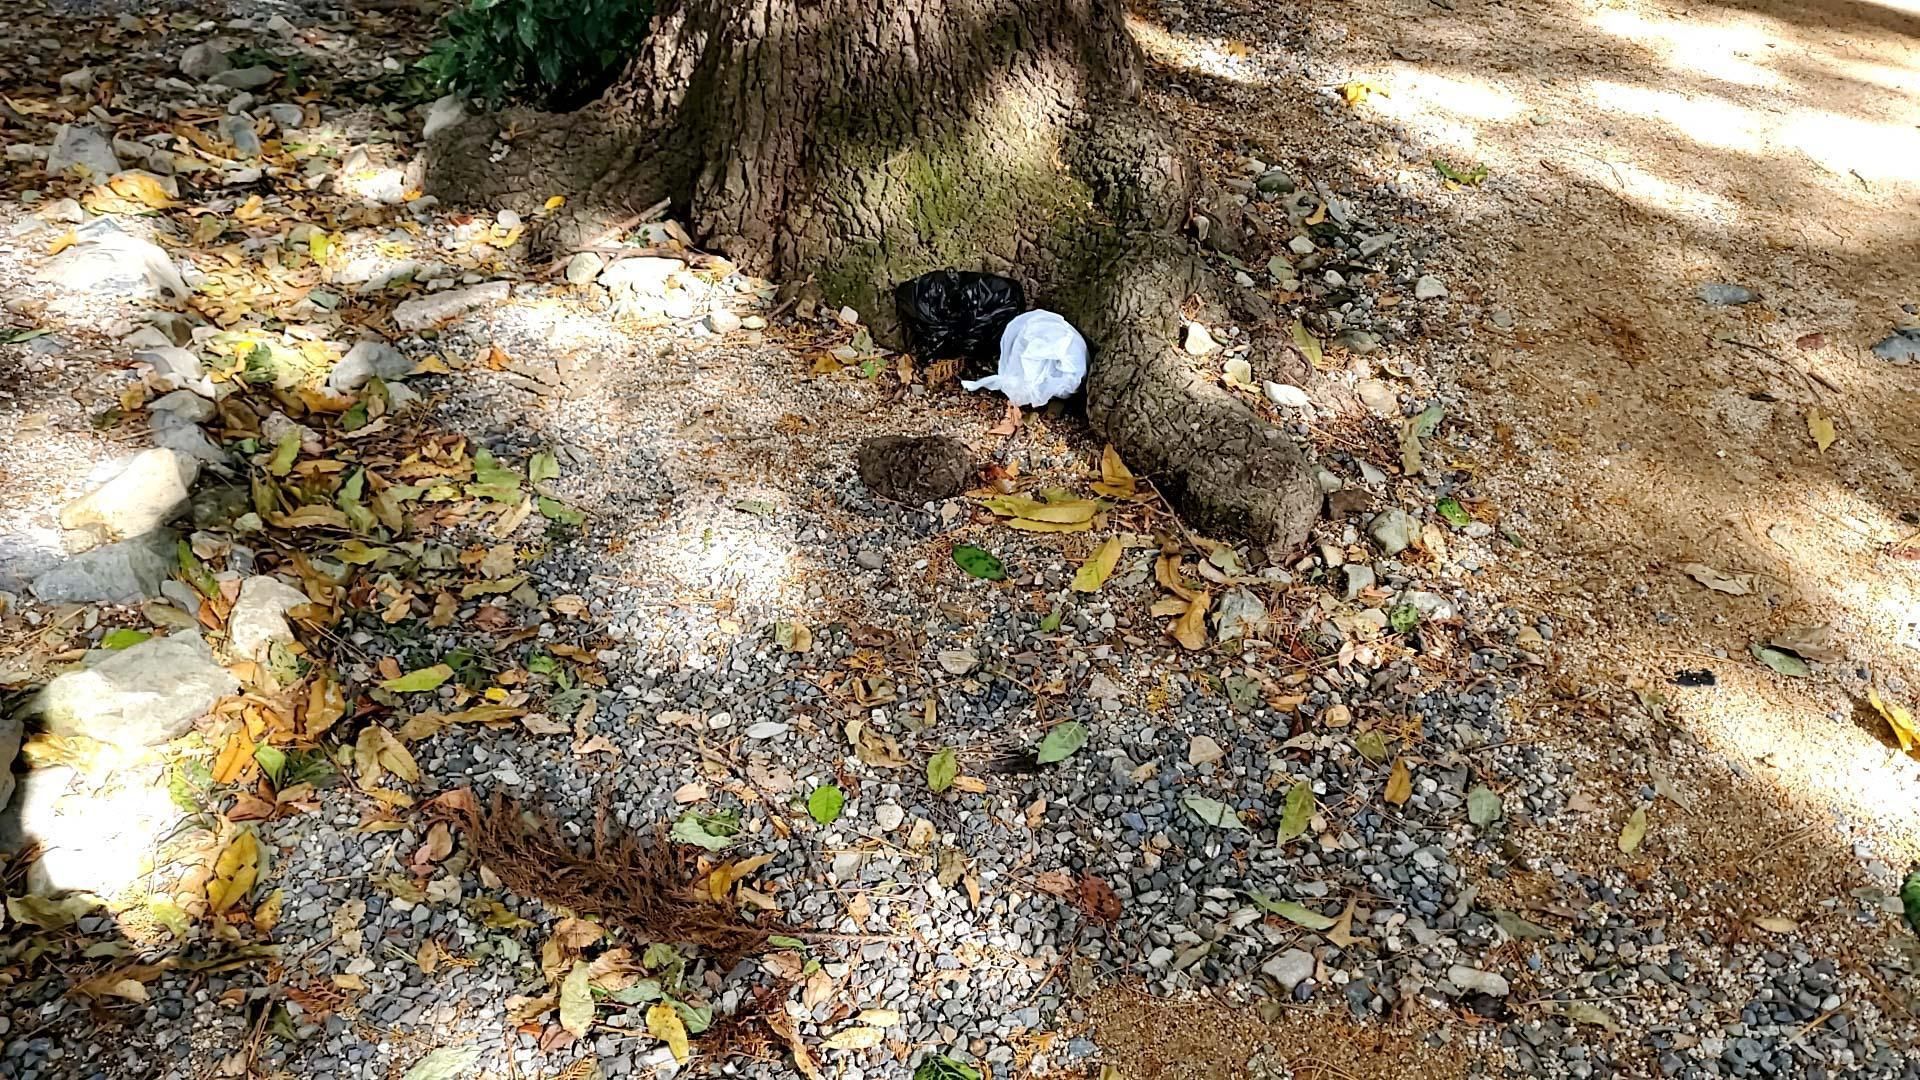black_bag: (889, 257, 1031, 373)
white_bag: (957, 307, 1093, 423)
